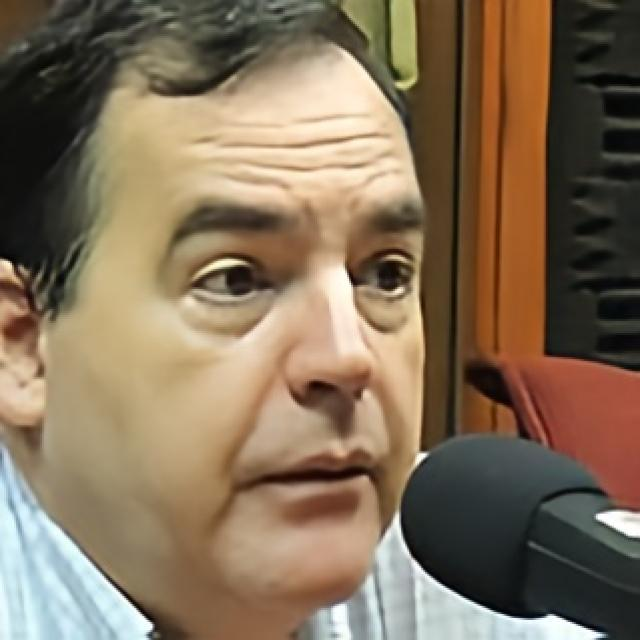surprise: (46, 29, 432, 604)
